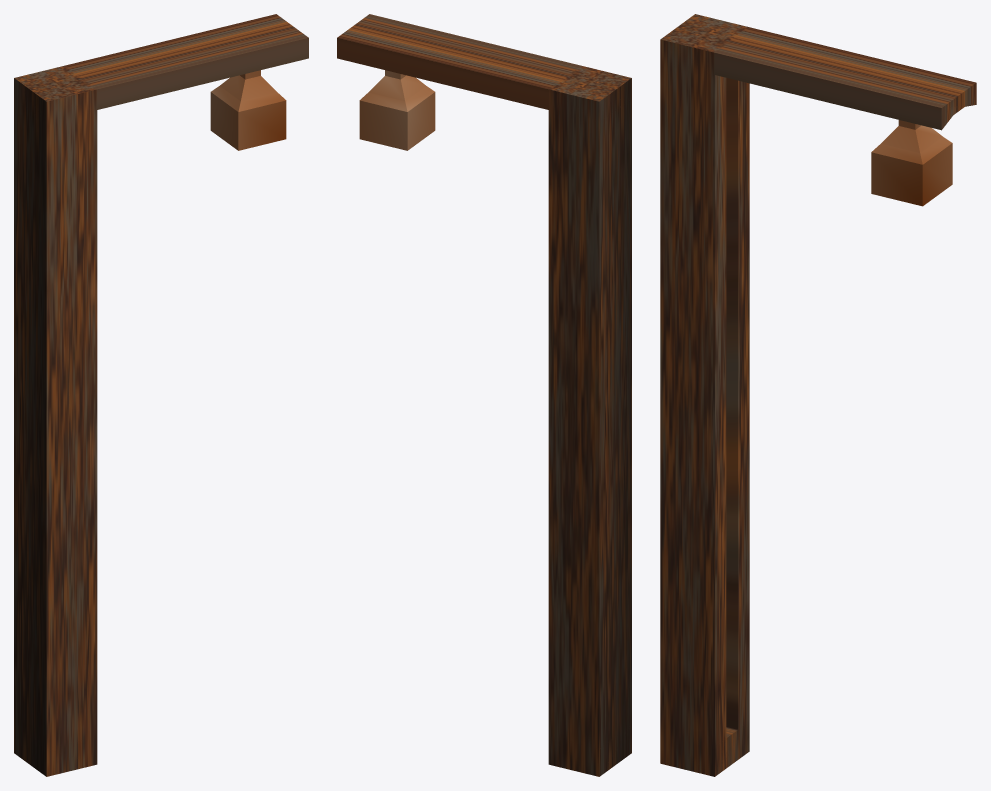
The model's file is LightPillar.glb.
3 views of the same model, side by side, from view 1: azimuth 30°, elevation 25°; view 2: azimuth 150°, elevation 25°; view 3: azimuth 330°, elevation 25° (orthographic). The views are drawn at different scales.
Parts seen in each view (by area): view 1: Cube, Cube.001; view 2: Cube, Cube.001; view 3: Cube, Cube.001.
Part boxes in pixels (x1=…): Cube: x1=14, y1=14, x2=308, y2=776; Cube.001: x1=210, y1=70, x2=286, y2=150; Cube: x1=337, y1=14, x2=631, y2=776; Cube.001: x1=359, y1=70, x2=435, y2=150; Cube: x1=660, y1=14, x2=976, y2=776; Cube.001: x1=871, y1=120, x2=952, y2=206.
Bounding box in the file's own units: 2.22 × 5.46 × 0.4758.
2 materials, 2 textured.
